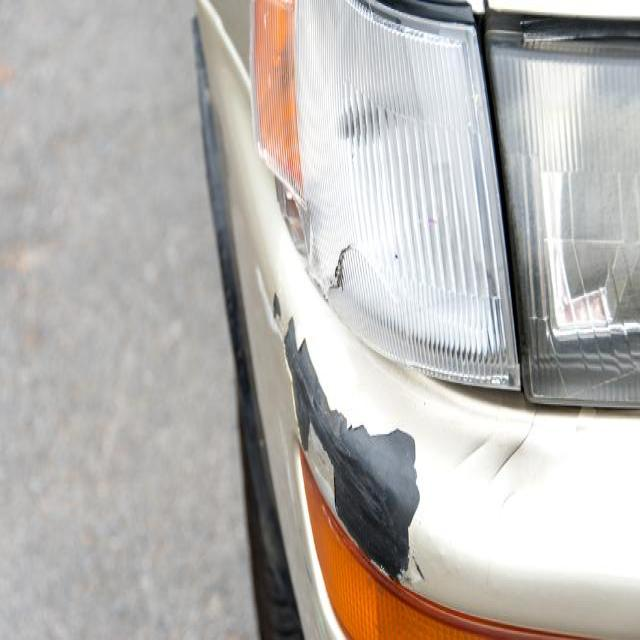Dent: (277, 301, 437, 594), (332, 74, 420, 281), (518, 54, 594, 171), (332, 0, 460, 48), (300, 215, 344, 302), (487, 412, 536, 482), (337, 455, 384, 520), (2, 234, 59, 280), (304, 419, 335, 482), (614, 165, 634, 254), (587, 355, 638, 389), (518, 15, 569, 36), (483, 298, 502, 353), (573, 326, 592, 370), (484, 266, 500, 308), (521, 33, 557, 51), (284, 316, 299, 359), (291, 425, 306, 457), (344, 421, 367, 440), (410, 553, 424, 580), (500, 487, 516, 508), (330, 416, 342, 437), (272, 290, 280, 320), (362, 0, 374, 20), (296, 337, 306, 359), (374, 559, 387, 574), (320, 284, 328, 302), (279, 49, 286, 68), (472, 90, 480, 102), (392, 254, 399, 266), (465, 118, 472, 130), (519, 18, 527, 26), (262, 12, 266, 27)
